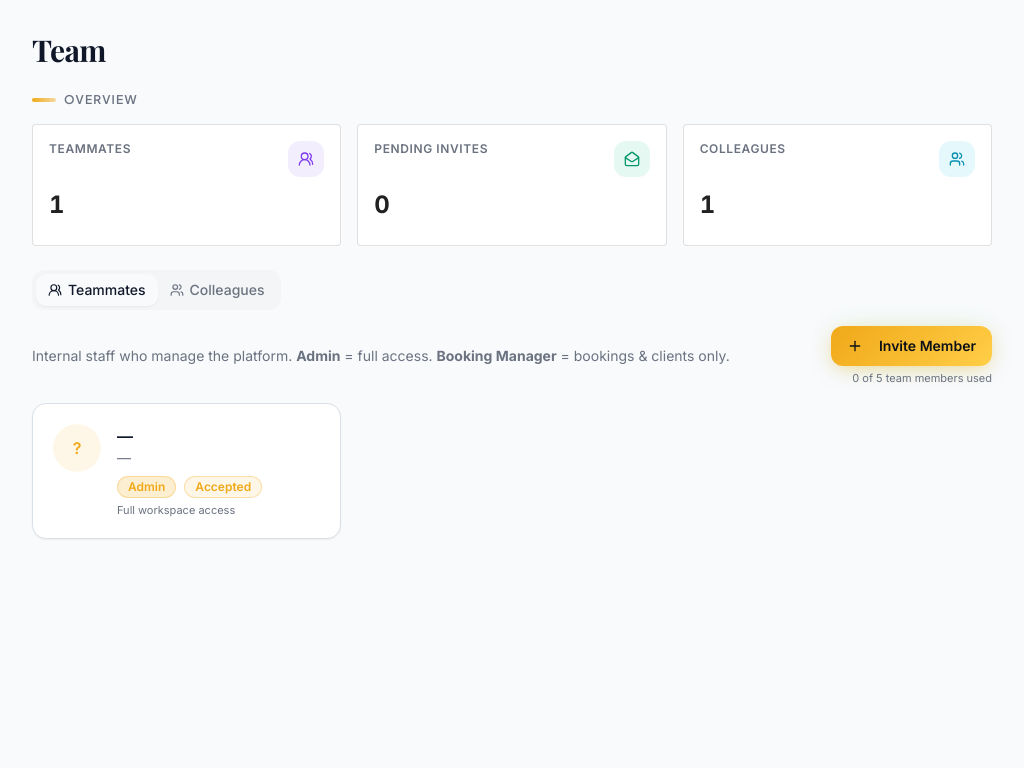
it: Team › deletes a colleague
Later steps or results of the test are not shown.
Press the mouse on the tab "Colleagues": (217, 290) x1=158 y1=274 x2=277 y2=306
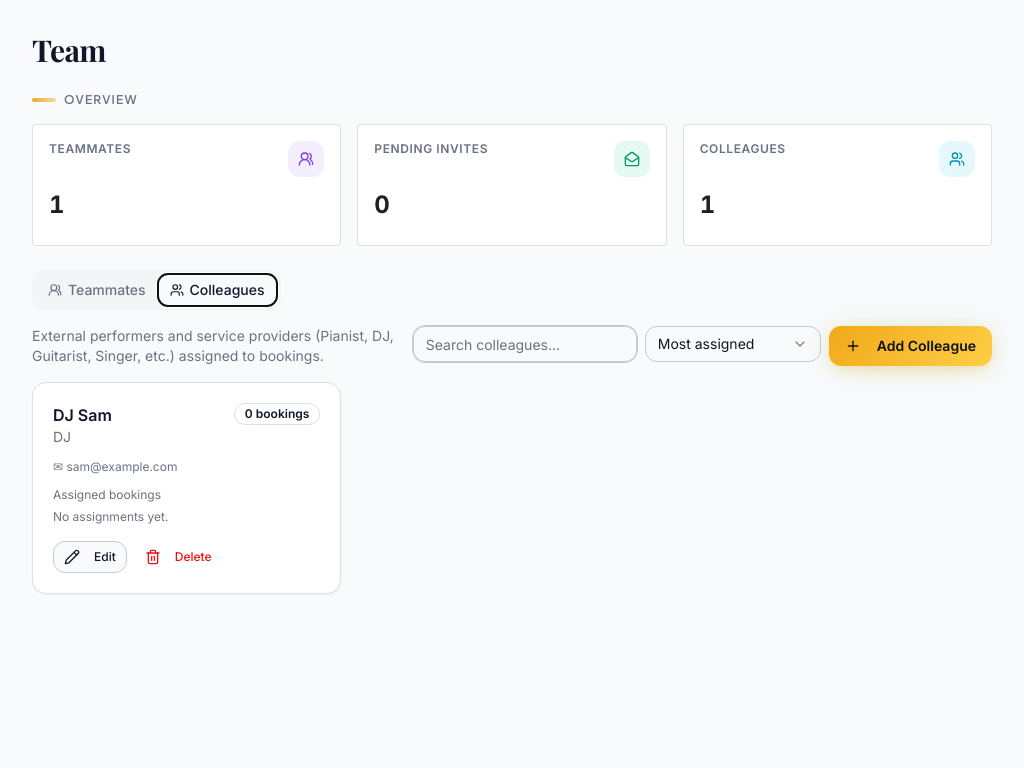
Click the tab "Colleagues": (217, 290) x1=158 y1=274 x2=277 y2=306
Result: the text "DJ Sam" is shown at x1=53 y1=403 x2=112 y2=427
